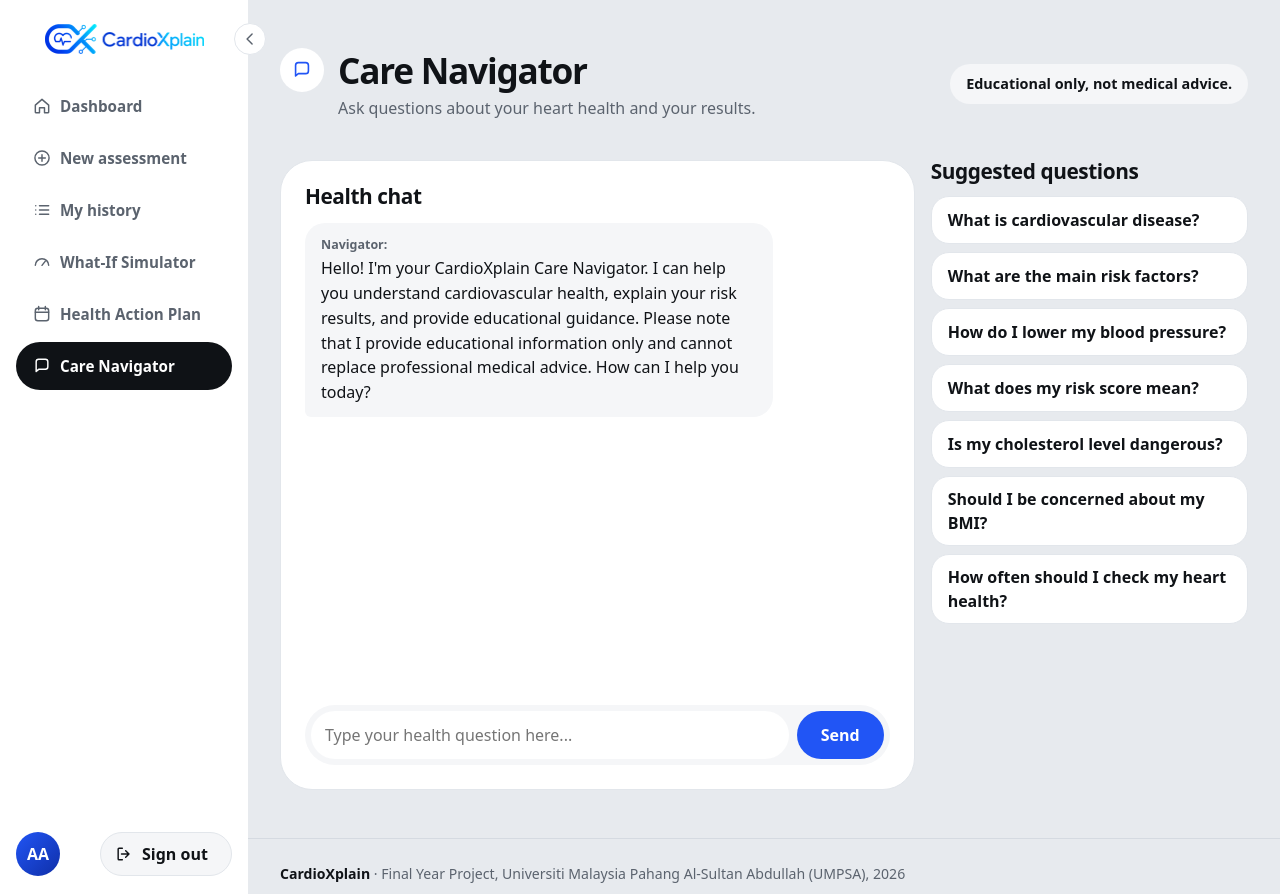
Scenario: navigator sends question with history
The width and height of the screenshot is (1280, 894).
Check: the list item "I'm your CardioXplain Care Navigator" is shown, box [321,257,739,403]
Type "What is BMI?" into the field named "Your question" at (550, 735), box [311,711,789,759]
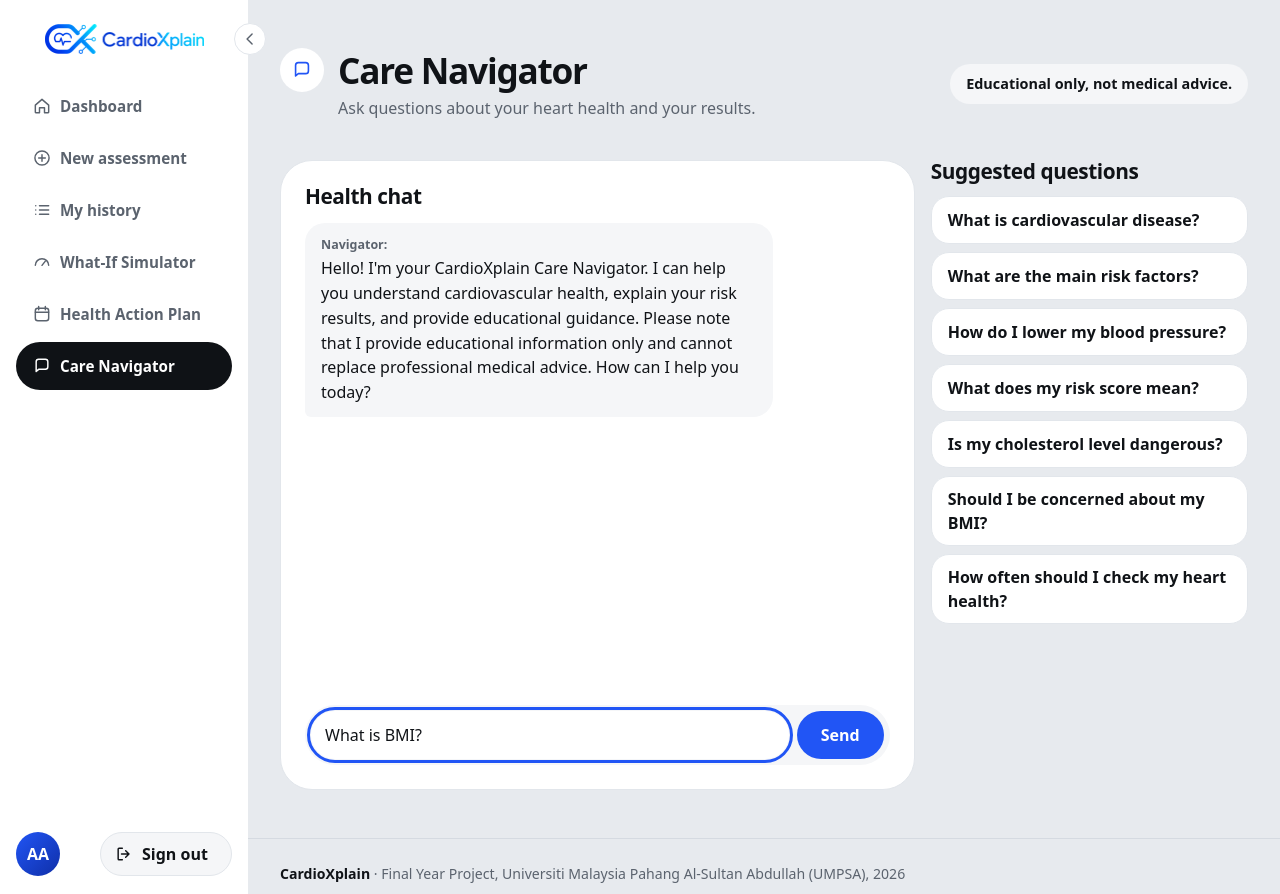
Click the button "Send" at (840, 735), box [797,711,884,759]
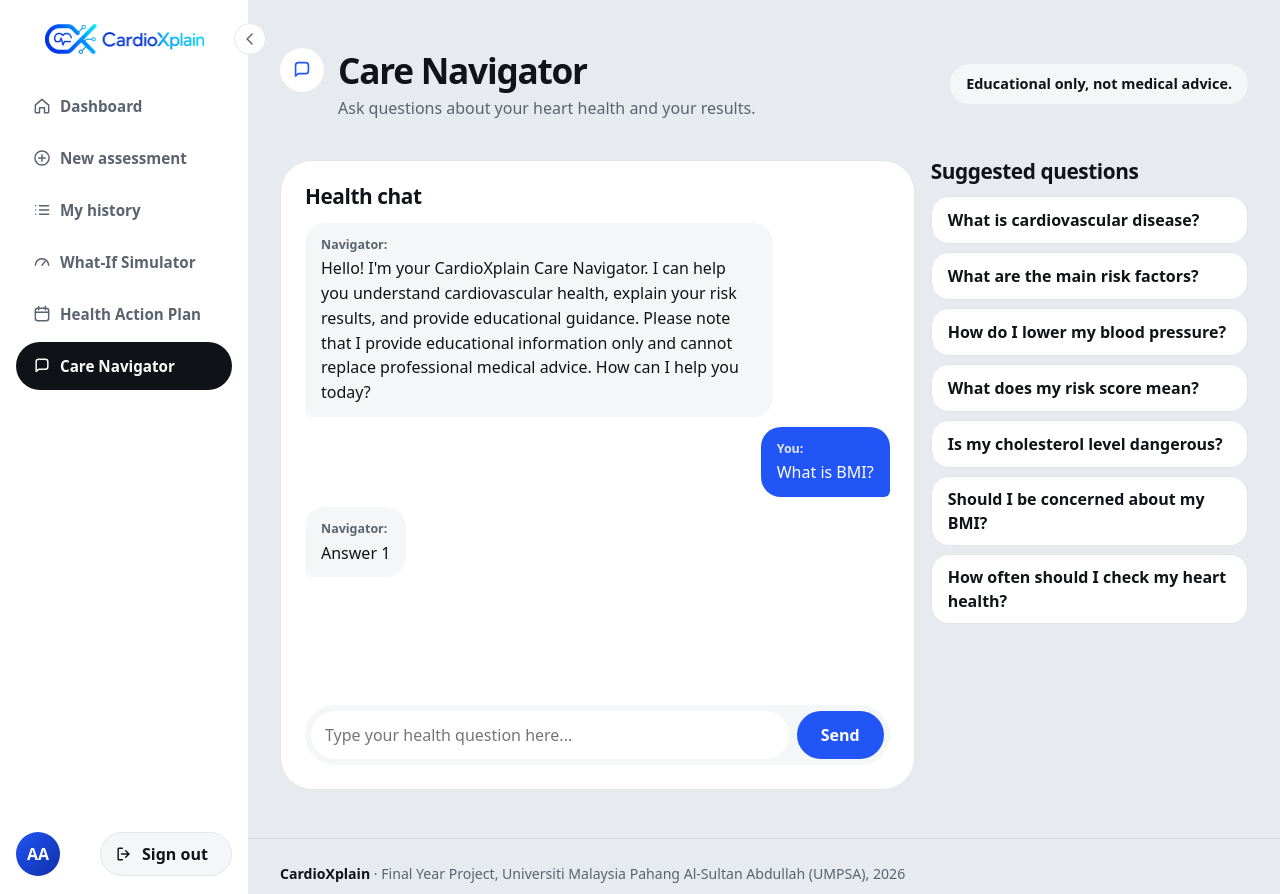
Check: the text "Answer 1" is shown, box [321,540,390,565]
Type "Is mine high?" into the field named "Your question" at (550, 735), box [311,711,789,759]
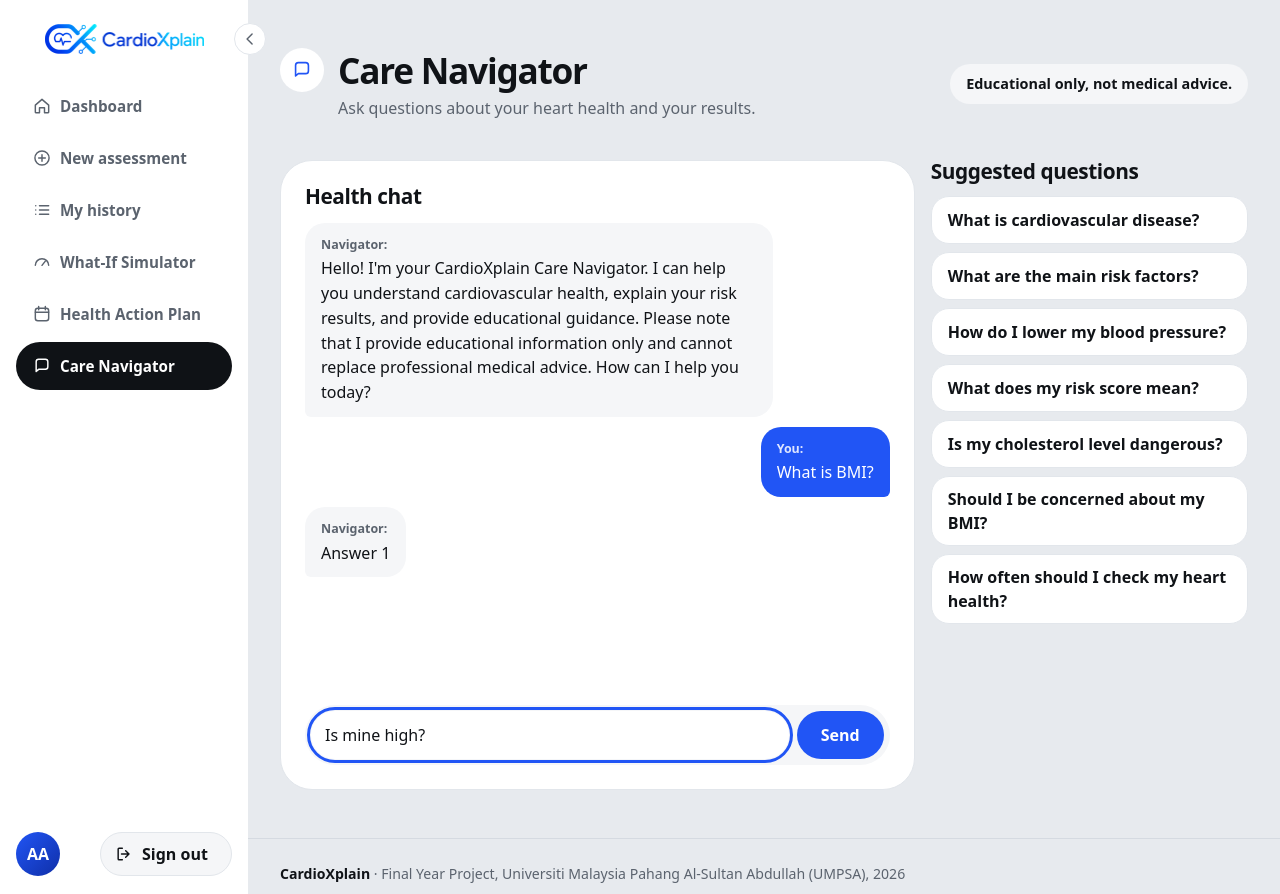
Click the button "Send" at (840, 735), box [797,711,884,759]
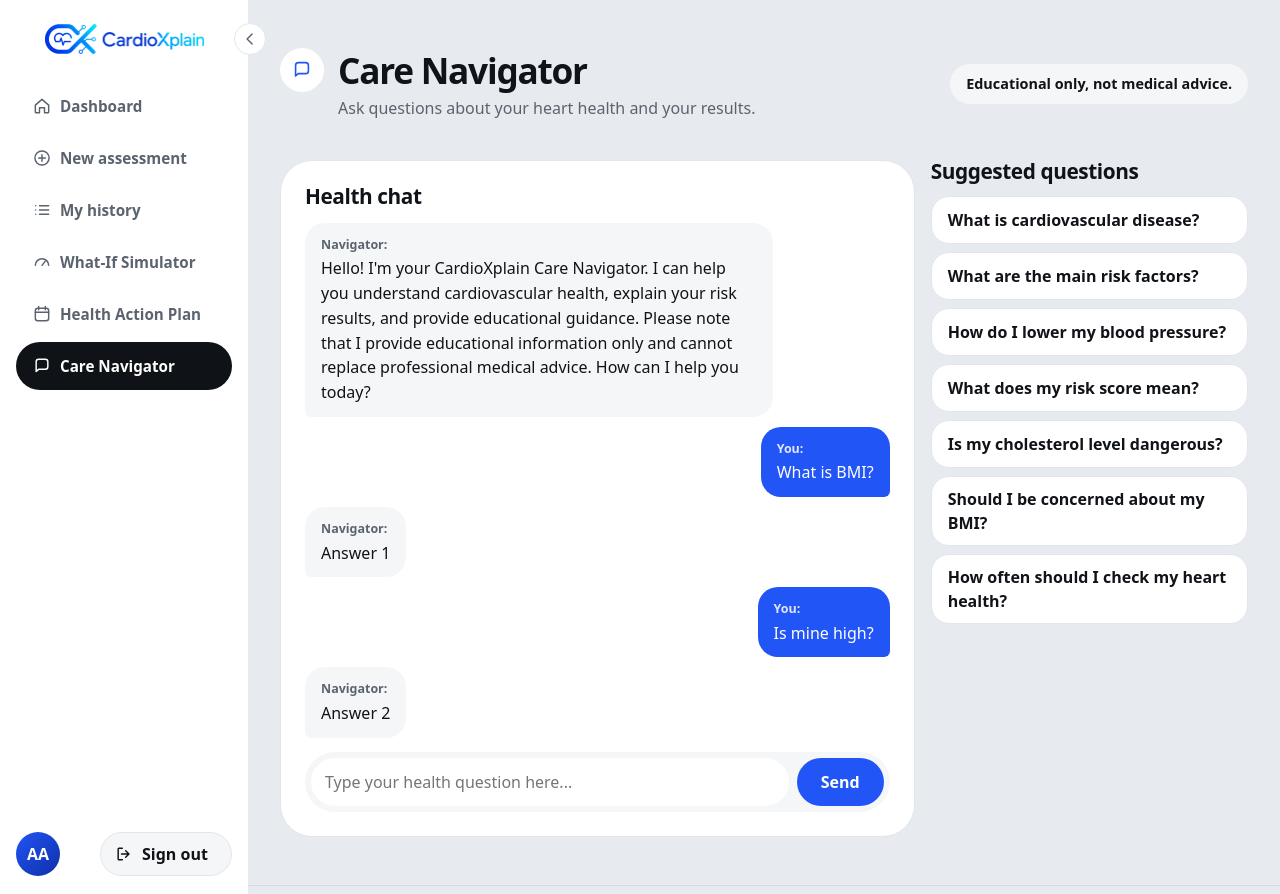
Check: the text "Answer 2" is shown, box [321,701,390,726]
Check: the field named "Your question" is empty, box [311,758,789,806]
